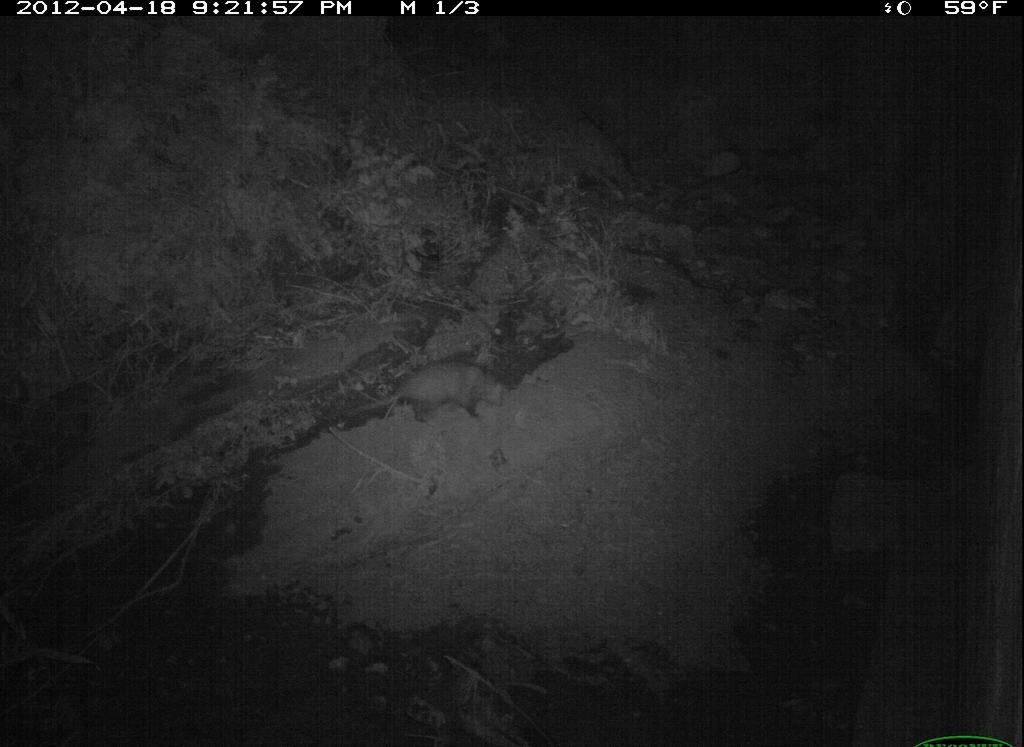opossum: (328, 346, 532, 436)
